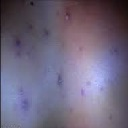Chickenpox: (5, 31, 30, 52), (51, 71, 72, 91), (18, 94, 31, 115), (60, 9, 76, 24)
